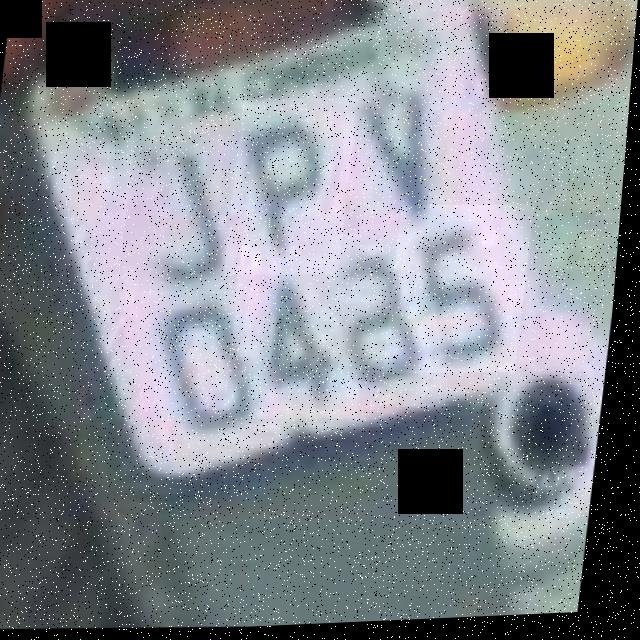0: (138, 280, 298, 450)
4: (228, 244, 380, 426)
5: (388, 204, 538, 381)
6: (318, 233, 451, 405)
J: (121, 129, 258, 297)
P: (227, 97, 360, 281)
